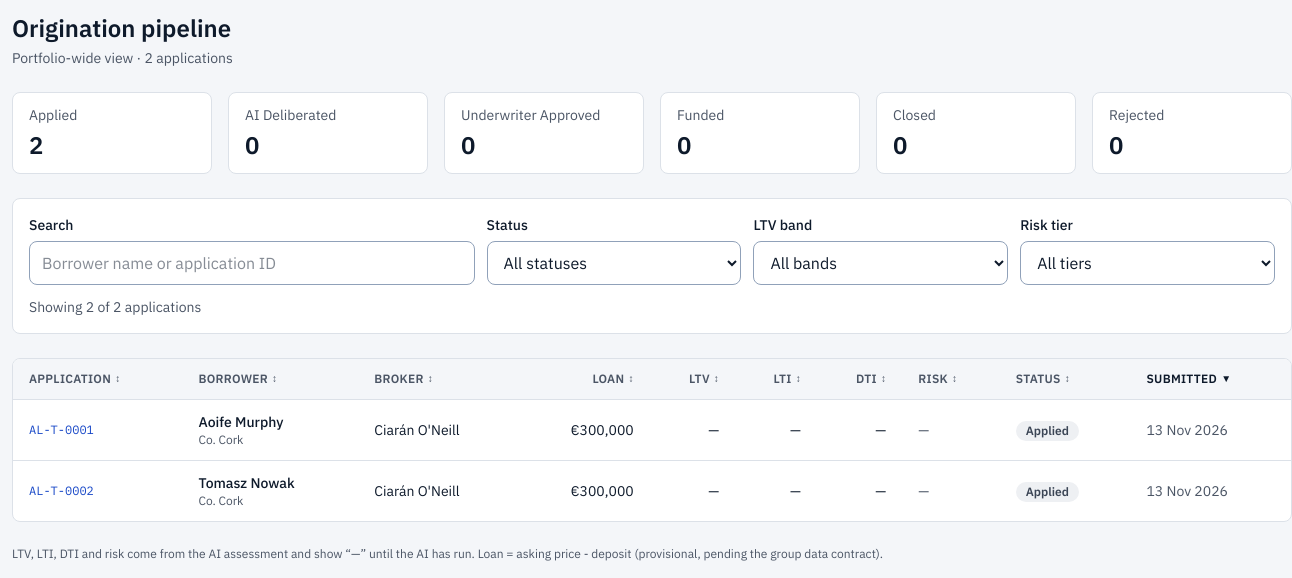
Test: PipelinePage real-time updates (WEB-24) › keeps the active filter when a status changes
Select "Applied" in the dropdown labelled "Status": (614,263) [487, 241, 741, 285]
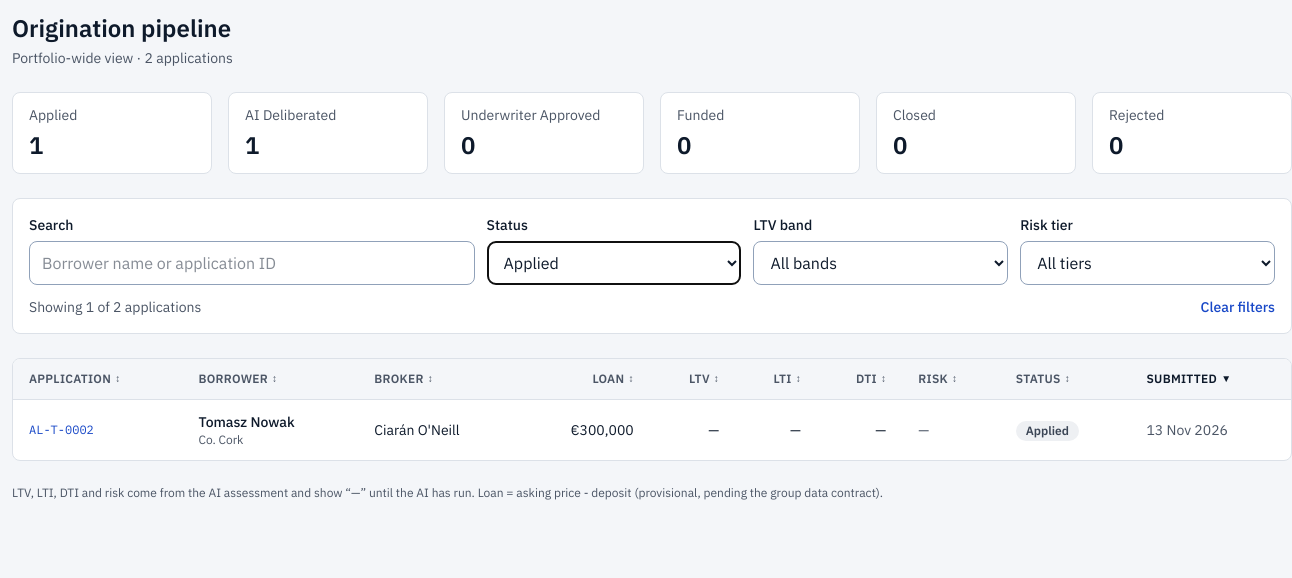
Expected: the text "Showing 1 of 2 applications" is shown, [29, 297, 201, 317]
Expected: the text "Aoife Murphy" is gone
